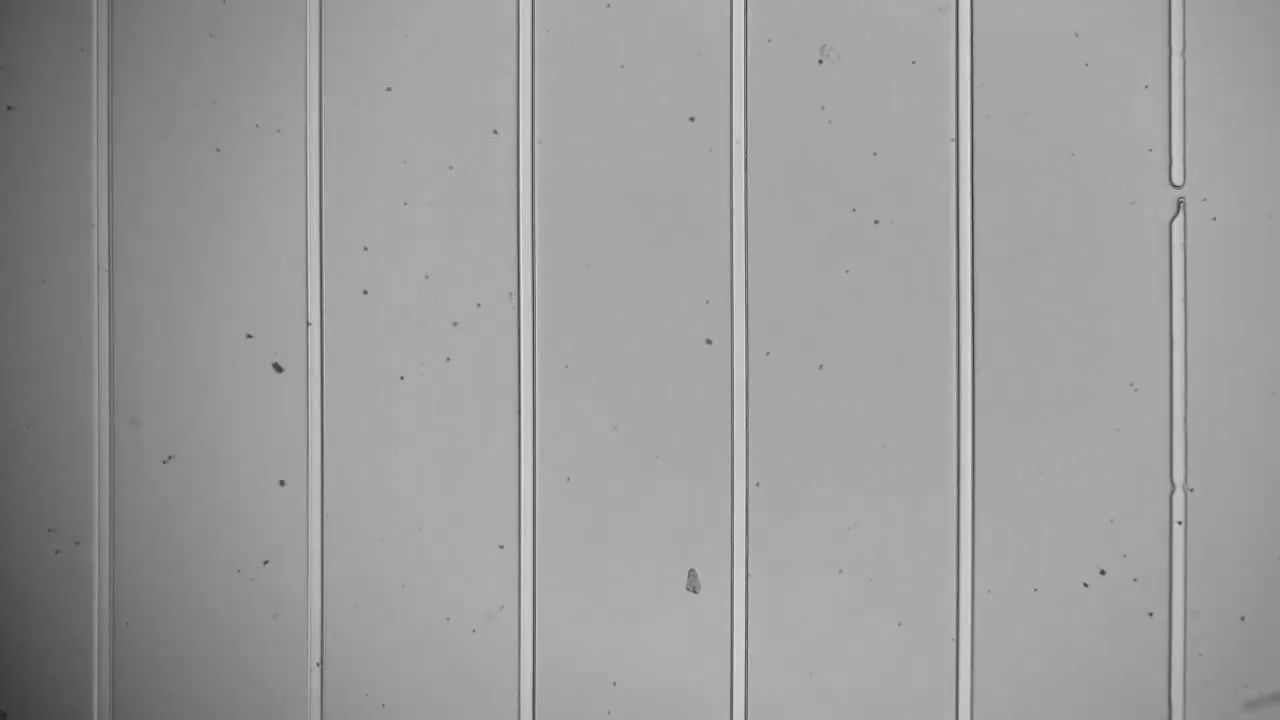edge_bite: (1164, 471, 1194, 506)
open: (1159, 172, 1195, 229)
